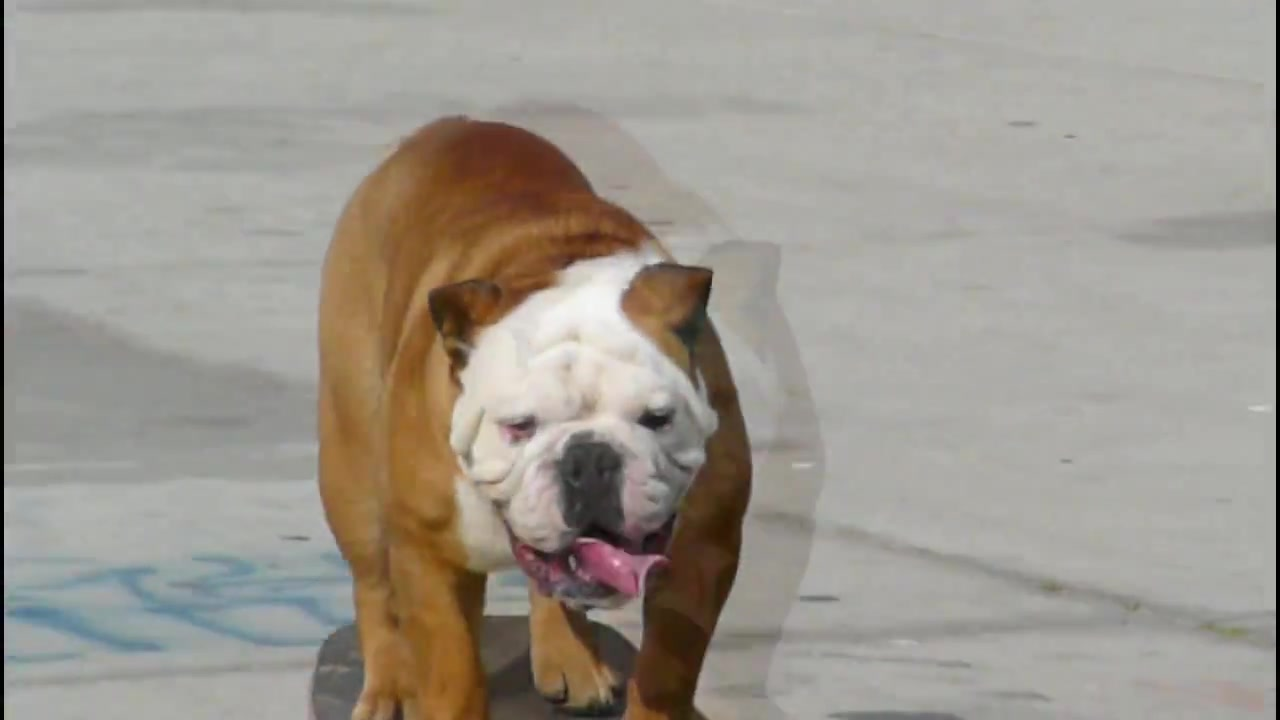dog: (310, 120, 757, 720)
